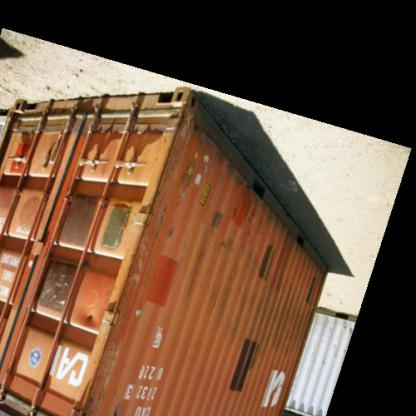Damage: (134, 109, 196, 269), (86, 269, 140, 414), (191, 204, 240, 252)
